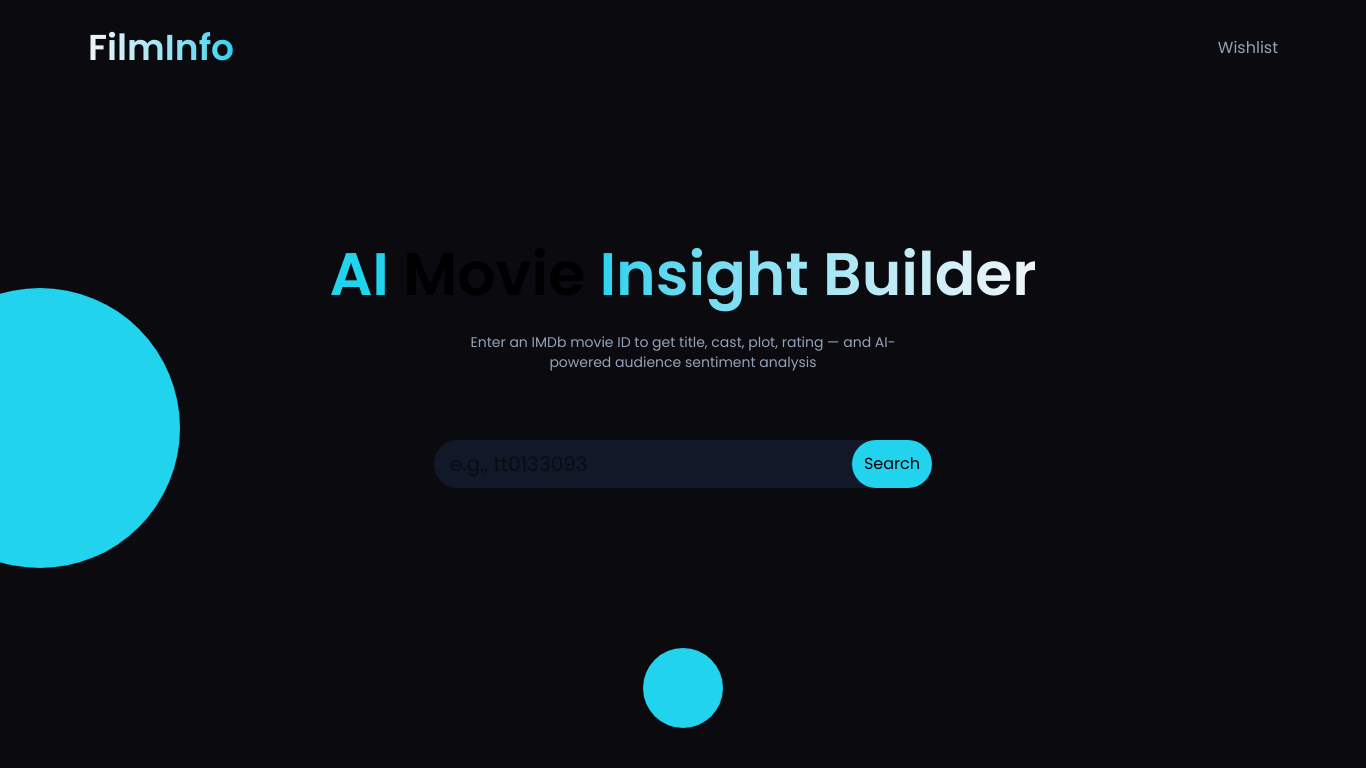
Test: Home Page › shows validation error for empty input
Click the button "Search".
click(892, 464)  # box [852,440,932,488]
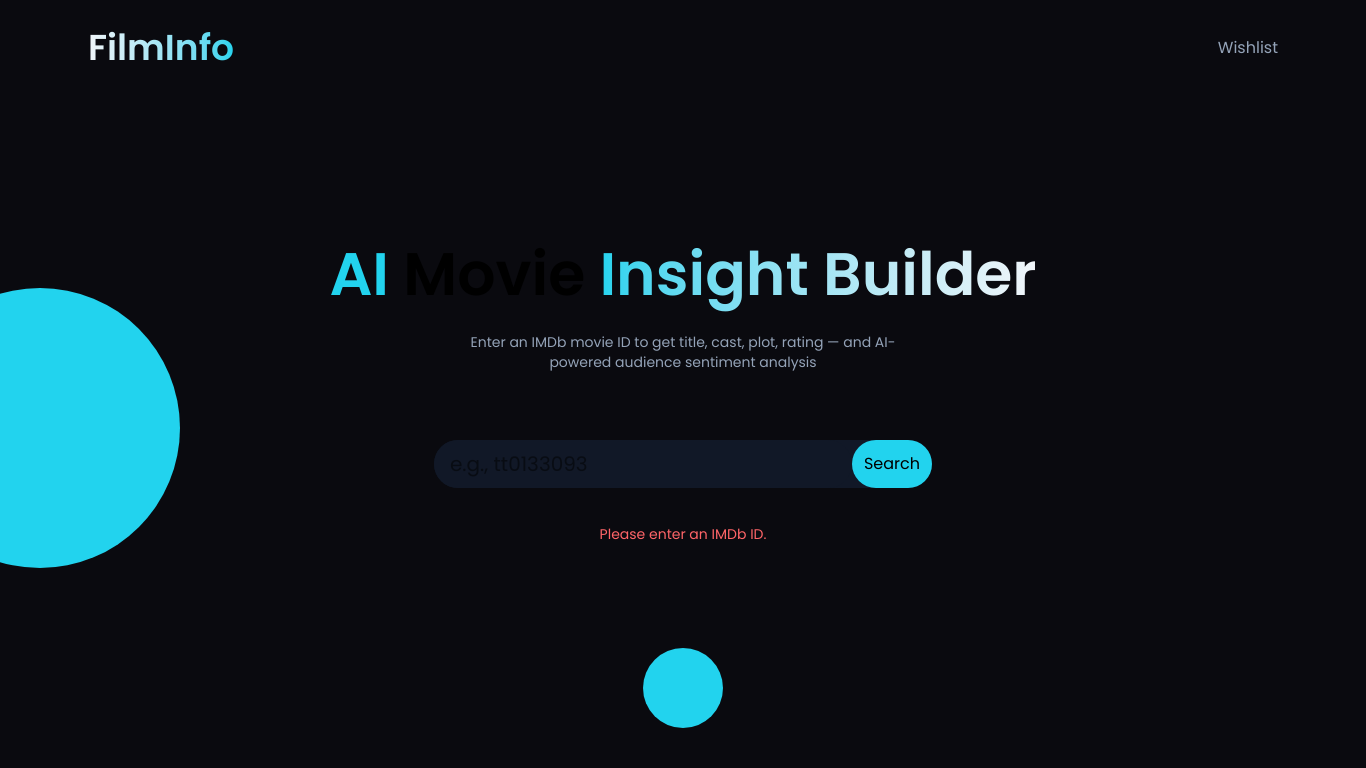
Now the text "Please enter an IMDb ID." is shown, box [600,524,766,544]
